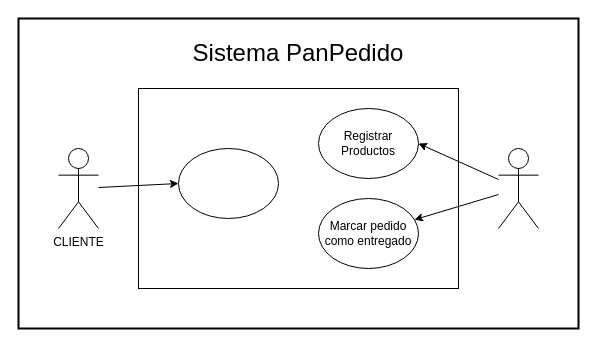
Image size: 596x346. Some labels were removed from this diagram. Each missing label, with the centre of its shape:
PANADERO: [518,188]
Tomar Pedidos: [228,183]
